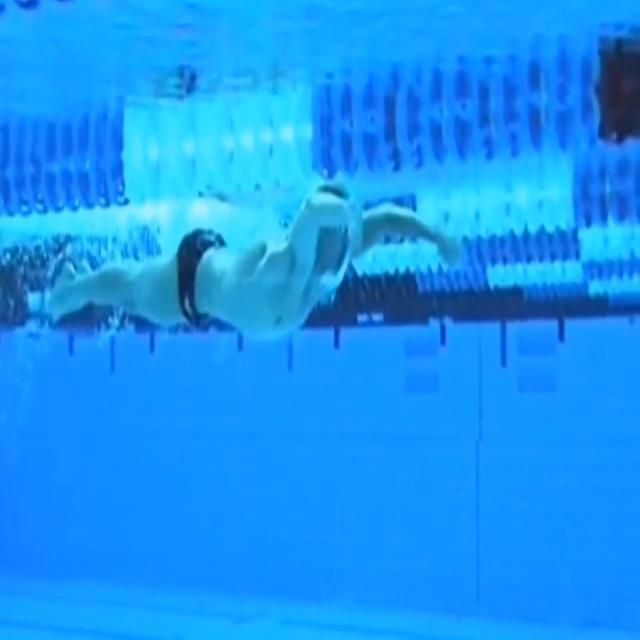Swimming: (50, 184, 459, 340)
